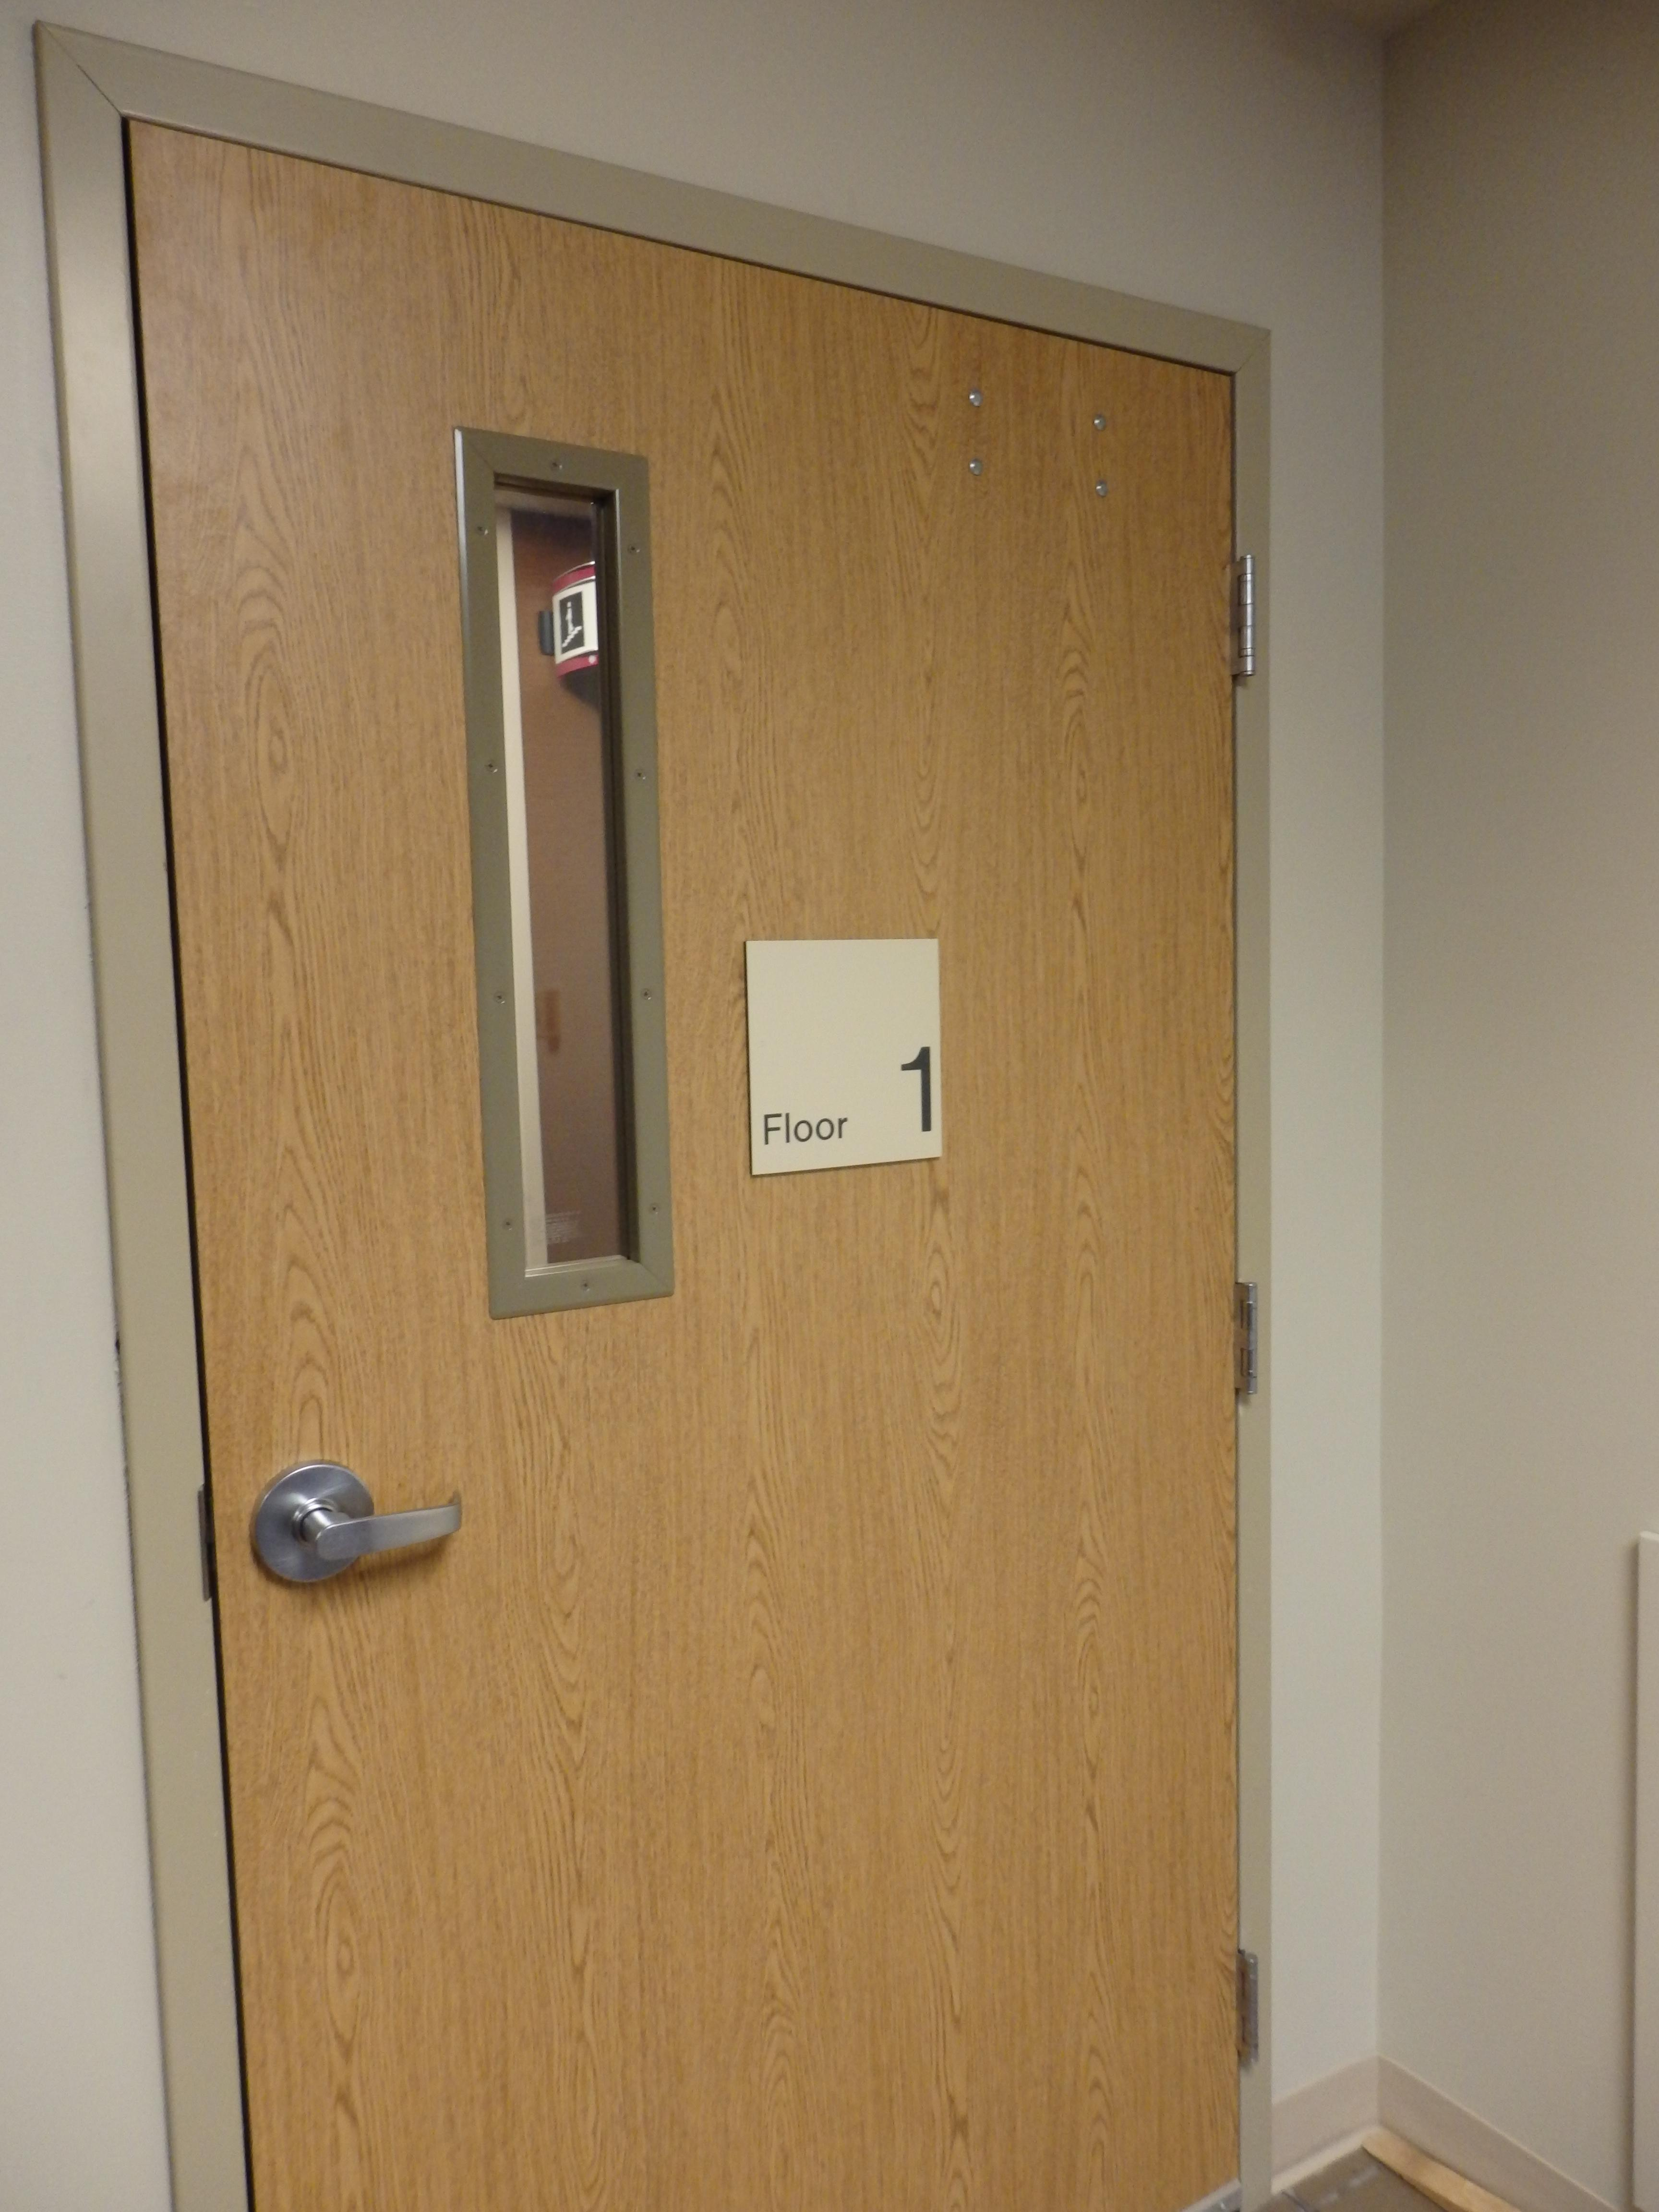door: (105, 89, 1262, 2212)
